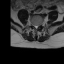CCS_severe_stenosis: (35, 23, 37, 30)
LFS_stenosis: (38, 22, 40, 27)
LLS_normal: (37, 23, 38, 29)
RFS_normal: (32, 21, 34, 27)
RLS_normal: (34, 23, 35, 29)
